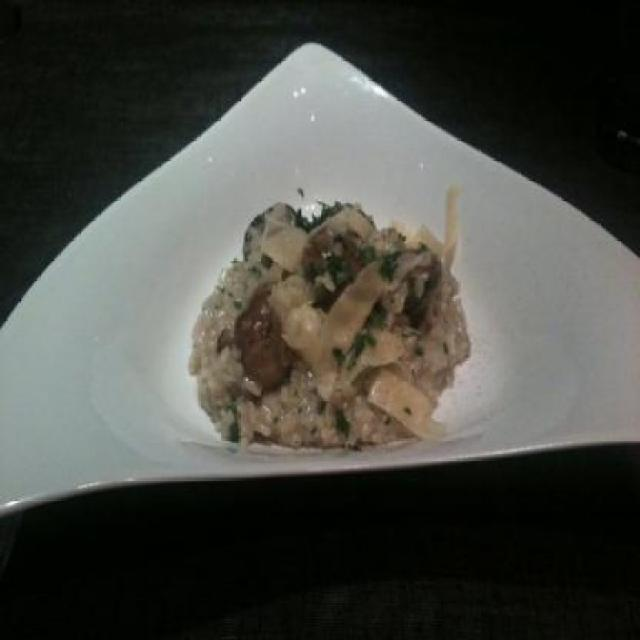Risotto: (185, 210, 470, 448)
